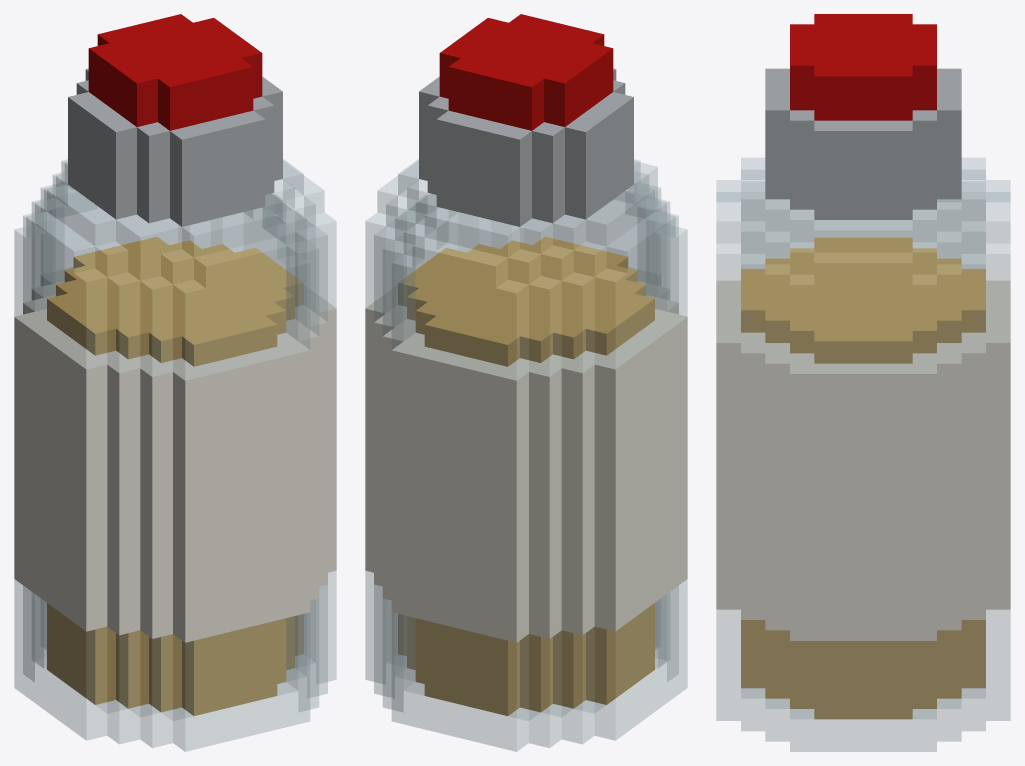
File: inj_iron.glb
The picture shows the model from 3 angles, left to right: view 1: azimuth 30°, elevation 25°; view 2: azimuth 150°, elevation 25°; view 3: azimuth 270°, elevation 25°; orthographic projection.
Visible parts, largest first — view 1: inj_iron:compound; view 2: inj_iron:compound; view 3: inj_iron:compound.
Part boxes in pixels (bbox=[...]): inj_iron:compound: bbox=[14, 14, 336, 751]; inj_iron:compound: bbox=[365, 14, 687, 751]; inj_iron:compound: bbox=[716, 14, 1010, 751].
Size of the model in its own units: 0.024 by 0.058 by 0.024.
